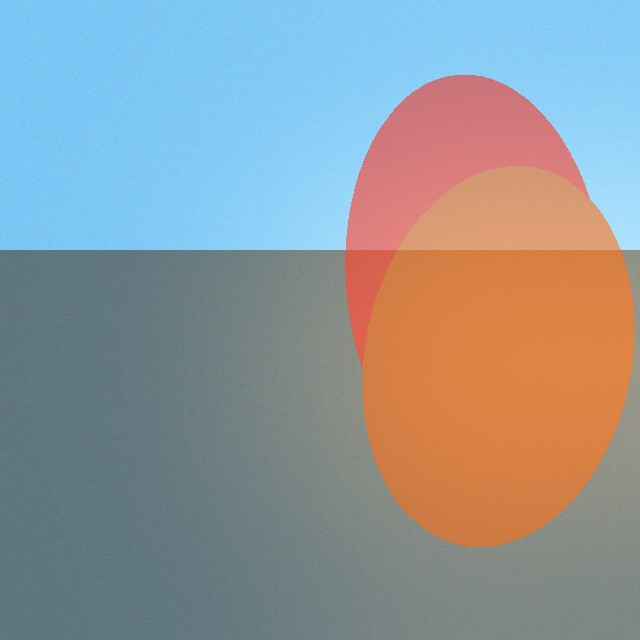fire: (326, 266, 624, 460)
